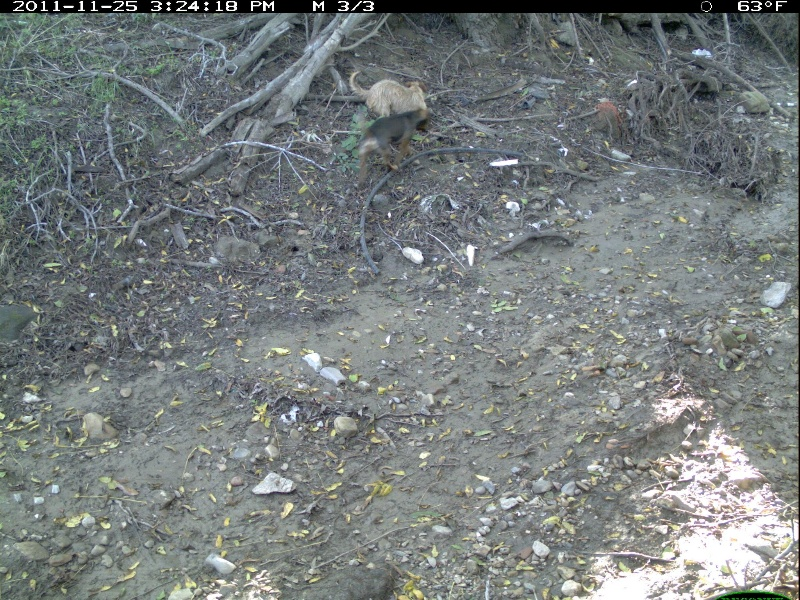dog: (350, 105, 434, 179), (342, 69, 435, 129)
